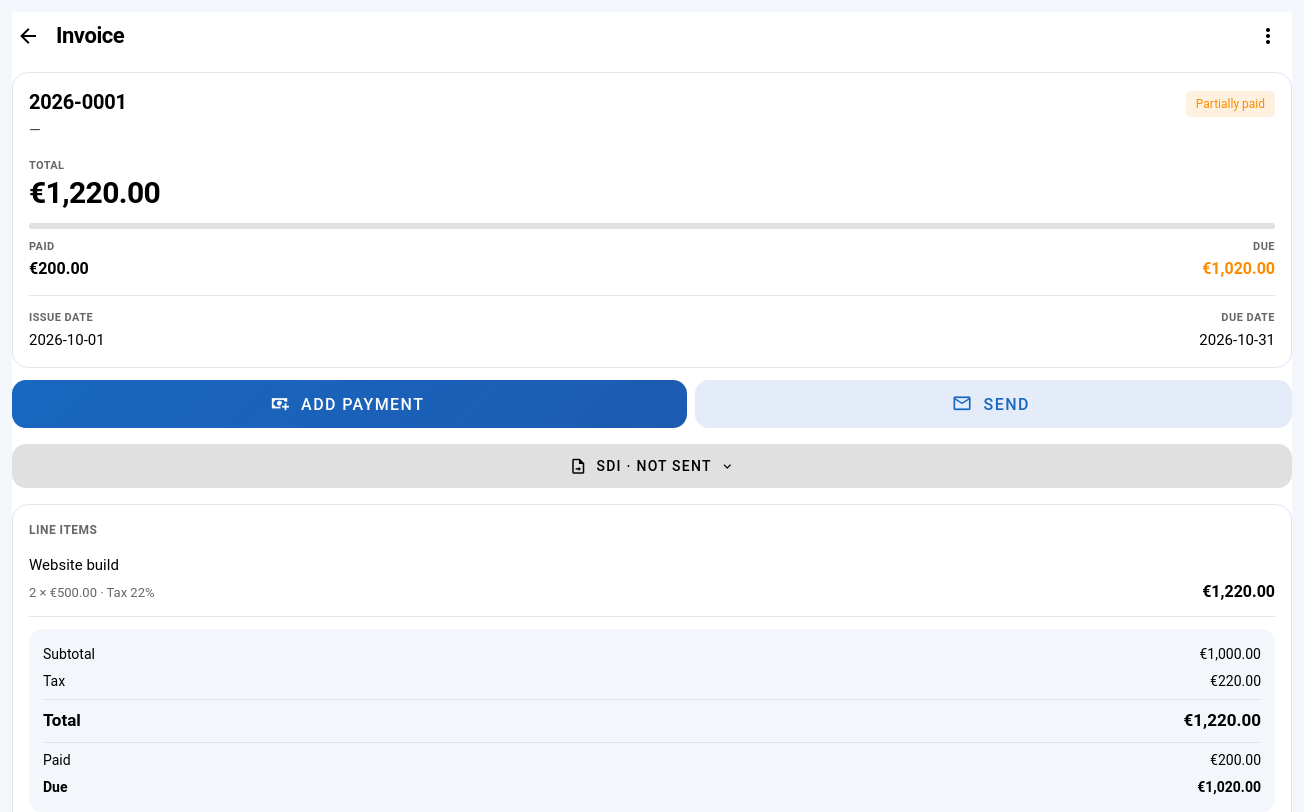
Test: InvoiceDetail — phone layout › keeps Void enabled in the overflow menu when not legally issued
The image size is (1304, 812).
Click the button with test id "invoice-more": [1268, 36] box [1244,12,1292,60]
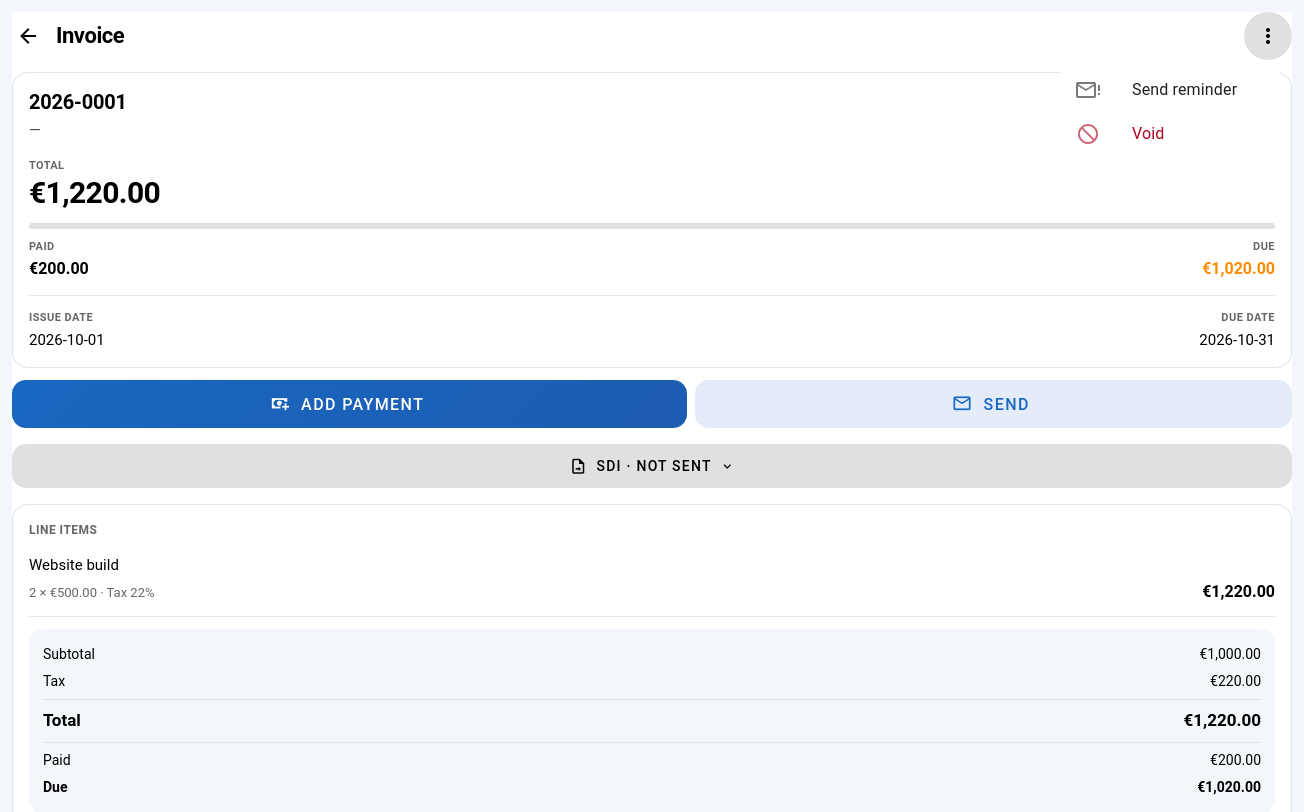
Check: the element with test id "invoice-void" is shown, box [1076,122,1164,146]
